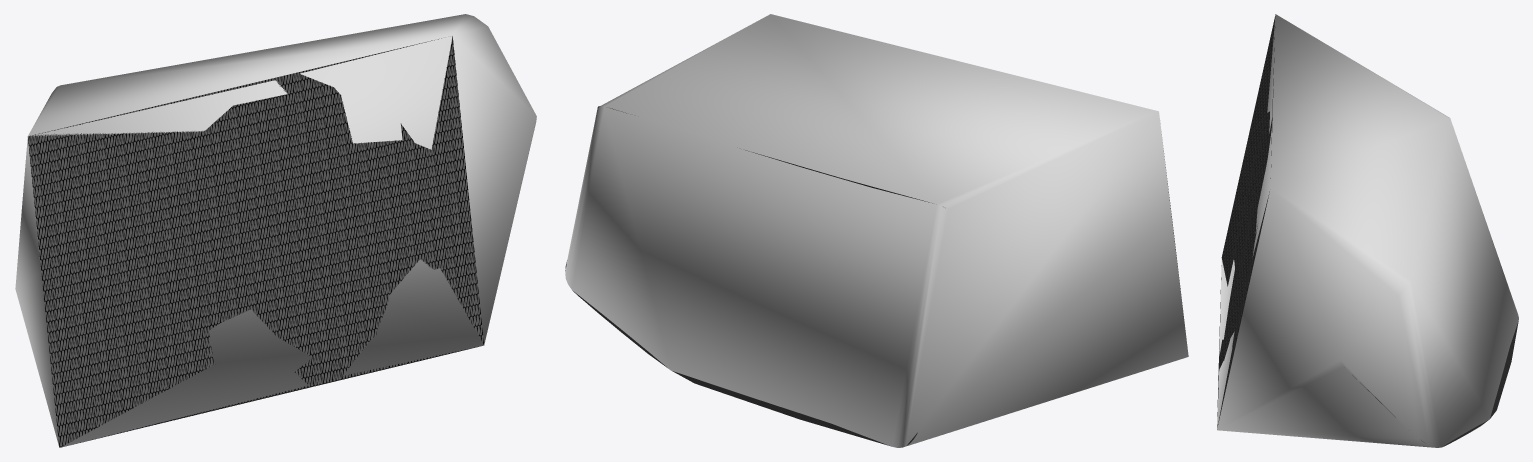
3 views of the same model, side by side, from view 1: azimuth 30°, elevation 25°; view 2: azimuth 150°, elevation 25°; view 3: azimuth 270°, elevation 25° (orthographic). The views are drawn at different scales.
Parts seen in each view (by area): view 1: grille_stampede_tail_r_01, grille_stampede_tail_r_01_col; view 2: grille_stampede_tail_r_01_col, grille_stampede_tail_r_01; view 3: grille_stampede_tail_r_01_col, grille_stampede_tail_r_01.
Part boxes in pixels (bbox=[...]): grille_stampede_tail_r_01: bbox=[27, 36, 483, 447]; grille_stampede_tail_r_01_col: bbox=[15, 14, 536, 447]; grille_stampede_tail_r_01_col: bbox=[565, 14, 1188, 447]; grille_stampede_tail_r_01: bbox=[565, 106, 1184, 445]; grille_stampede_tail_r_01_col: bbox=[1217, 14, 1518, 447]; grille_stampede_tail_r_01: bbox=[1217, 14, 1518, 447].
Bounding box in the file's own units: 0.382 × 0.192 × 0.2131.
Materials: 3 (3 with a texture image).
